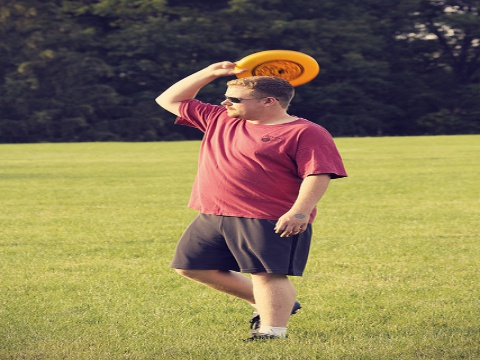hand: (272, 207, 312, 238)
